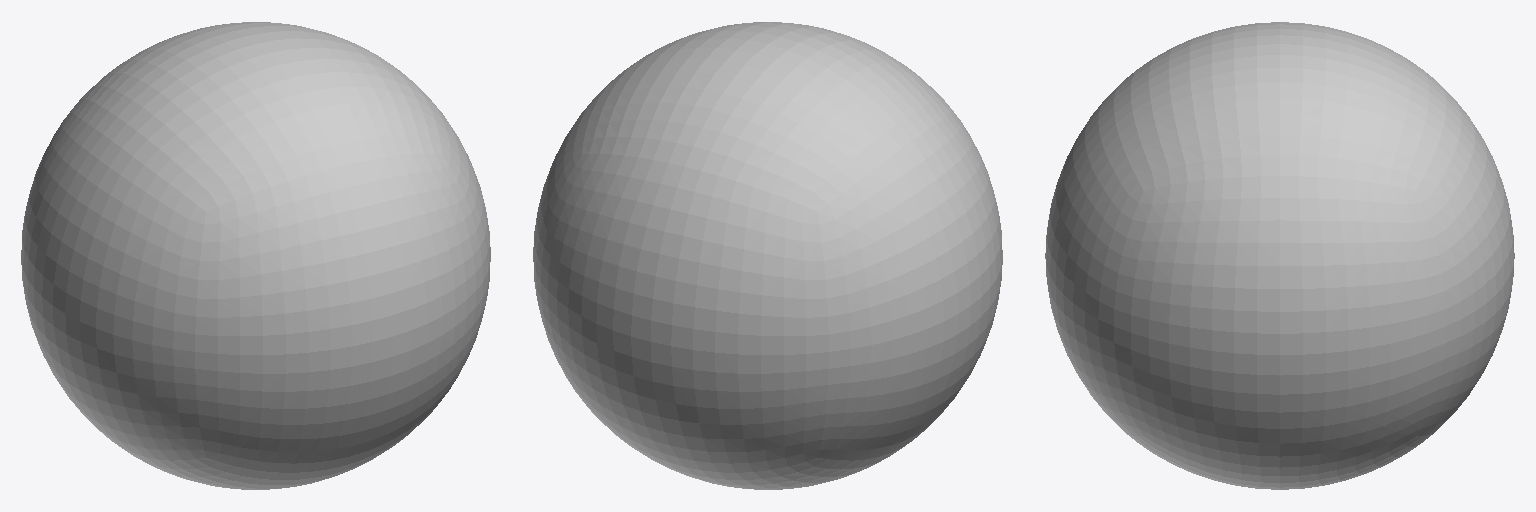
Rendered from Earth_V0.obj.
3 views of the same model, side by side, from view 1: azimuth 30°, elevation 25°; view 2: azimuth 150°, elevation 25°; view 3: azimuth 270°, elevation 25° (orthographic).
Parts seen in each view (by area): view 1: Cube.001_Cube.002; view 2: Cube.001_Cube.002; view 3: Cube.001_Cube.002.
Boxes of the visible parts, x1,y1,x2,y2 form: Cube.001_Cube.002: [21, 22, 490, 489]; Cube.001_Cube.002: [533, 22, 1002, 489]; Cube.001_Cube.002: [1045, 22, 1514, 489].
Size of the model in its own units: 1000 by 997 by 1000.